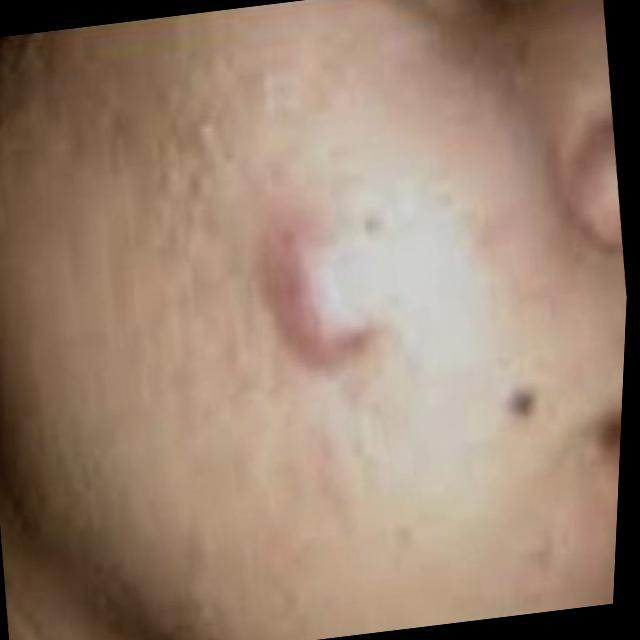nodule: (269, 195, 388, 365)
